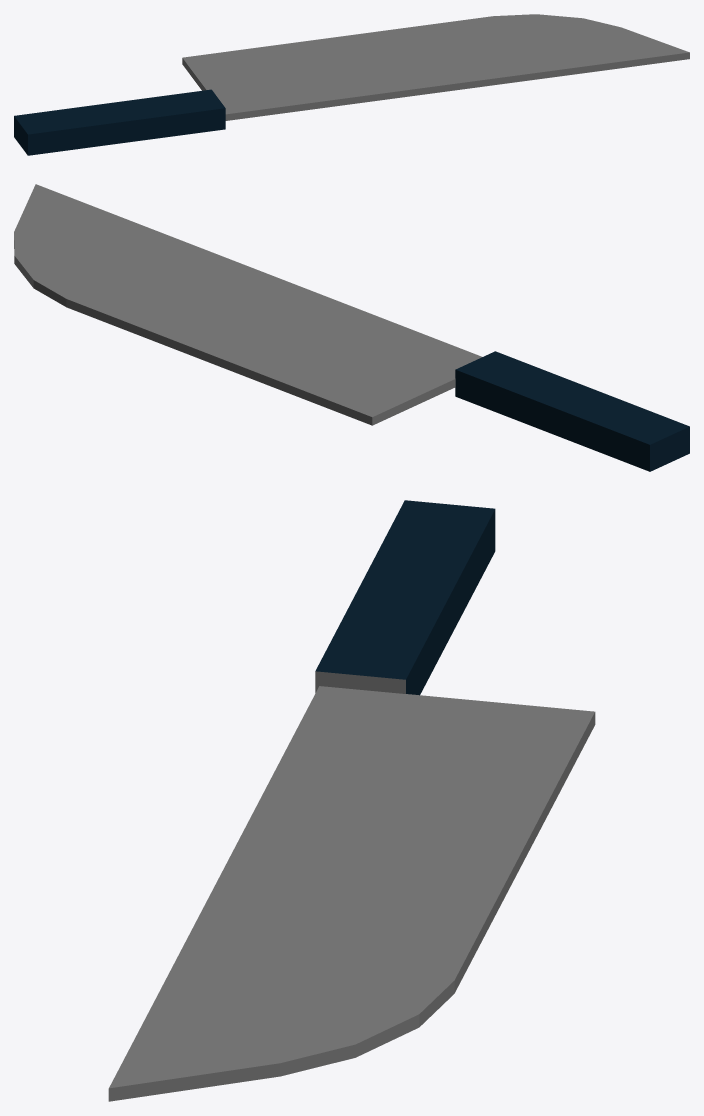
File: Knife.glb
3 views of the same model, one above another, from view 1: azimuth 30°, elevation 25°; view 2: azimuth 150°, elevation 25°; view 3: azimuth 270°, elevation 25° (orthographic). The views are drawn at different scales.
Parts seen in each view (by area): view 1: Knife; view 2: Knife; view 3: Knife.
Part boxes in pixels (box(x1,y1,x2,y2)): Knife: box(14, 14, 689, 155); Knife: box(14, 184, 689, 471); Knife: box(108, 500, 595, 1101).
Bounding box in the file's own units: 0.3454 × 0.0119 × 0.1237.
Materials: 2 (2 with a texture image).
